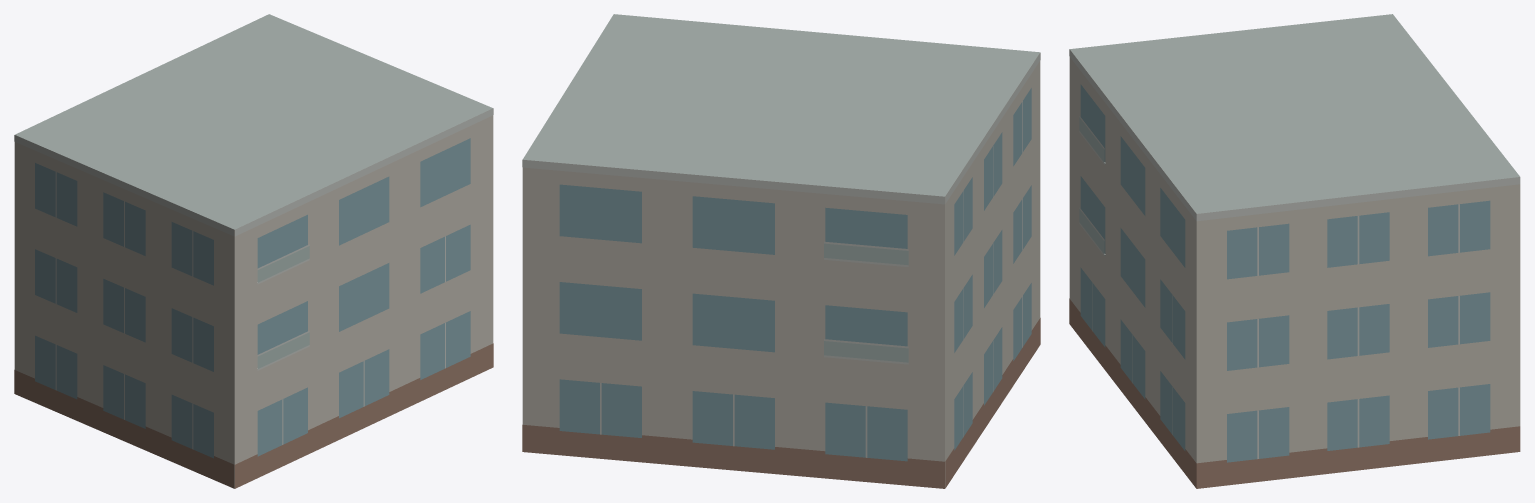
The model's file is survey-upis-32725126.glb.
The picture shows the model from 3 angles, left to right: view 1: azimuth 30°, elevation 25°; view 2: azimuth 150°, elevation 25°; view 3: azimuth 270°, elevation 25°; orthographic projection. The views are drawn at different scales.
Parts seen in each view (by area): view 1: survey-upis-32725126.tmp; view 2: survey-upis-32725126.tmp; view 3: survey-upis-32725126.tmp.
Part boxes in pixels (x1,y1,x2,y2): survey-upis-32725126.tmp: (14, 14, 493, 488); survey-upis-32725126.tmp: (522, 14, 1040, 488); survey-upis-32725126.tmp: (1069, 14, 1520, 488).
Bounding box in the file's own units: 14.29 × 9.15 × 13.61.
